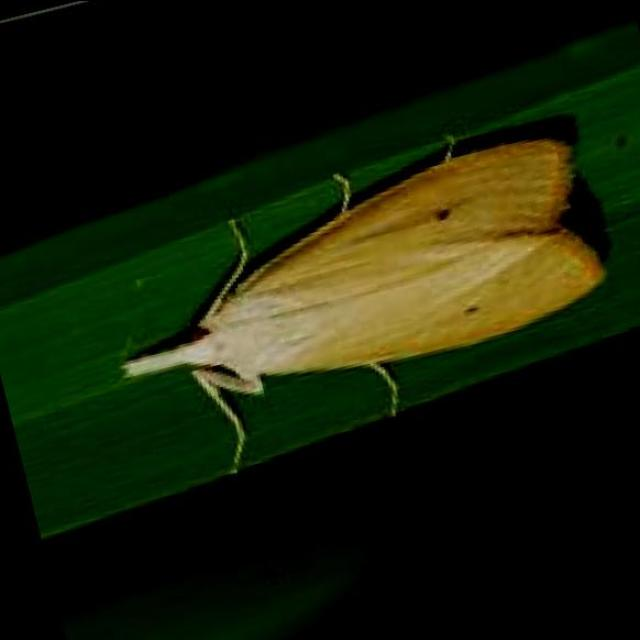stem borer: (122, 135, 604, 471)
